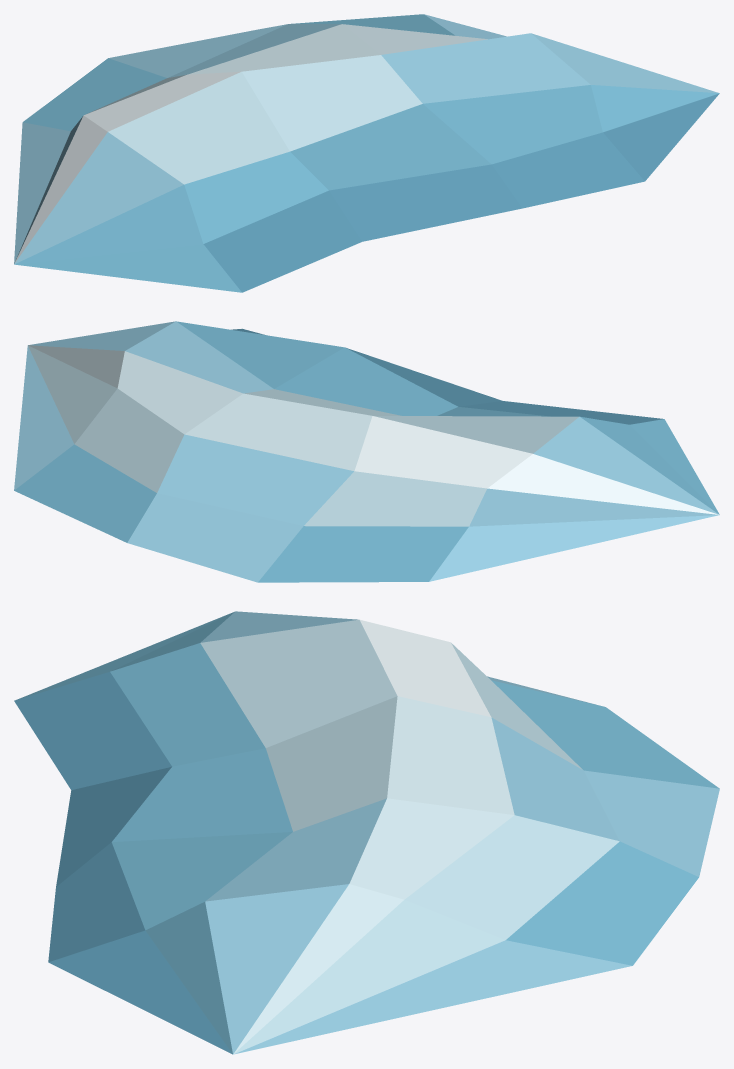
File: wave_3.glb
3 renders of one model, top to bottom at view 1: azimuth 30°, elevation 25°; view 2: azimuth 150°, elevation 25°; view 3: azimuth 270°, elevation 25°, orthographic. The views are drawn at different scales.
Parts seen in each view (by area): view 1: wave_3_0; view 2: wave_3_0; view 3: wave_3_0.
Part boxes in pixels (bbox=[...]): wave_3_0: bbox=[14, 14, 719, 292]; wave_3_0: bbox=[14, 321, 719, 582]; wave_3_0: bbox=[14, 611, 719, 1054].
Bounding box in the file's own units: 1.39 × 0.1437 × 0.9387.
